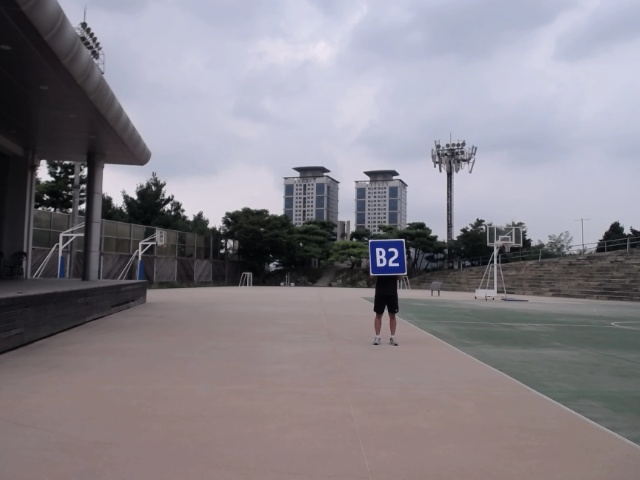delivery_b2: (369, 239, 408, 276)
